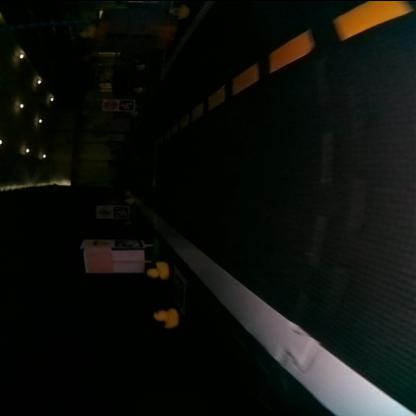Duckie: (154, 308, 178, 326), (146, 260, 168, 277), (169, 3, 188, 17), (80, 23, 96, 36)
Intersection sign: (98, 205, 112, 217)
QR code: (113, 238, 144, 248), (121, 98, 134, 110)
Stop sign: (102, 98, 116, 110)
